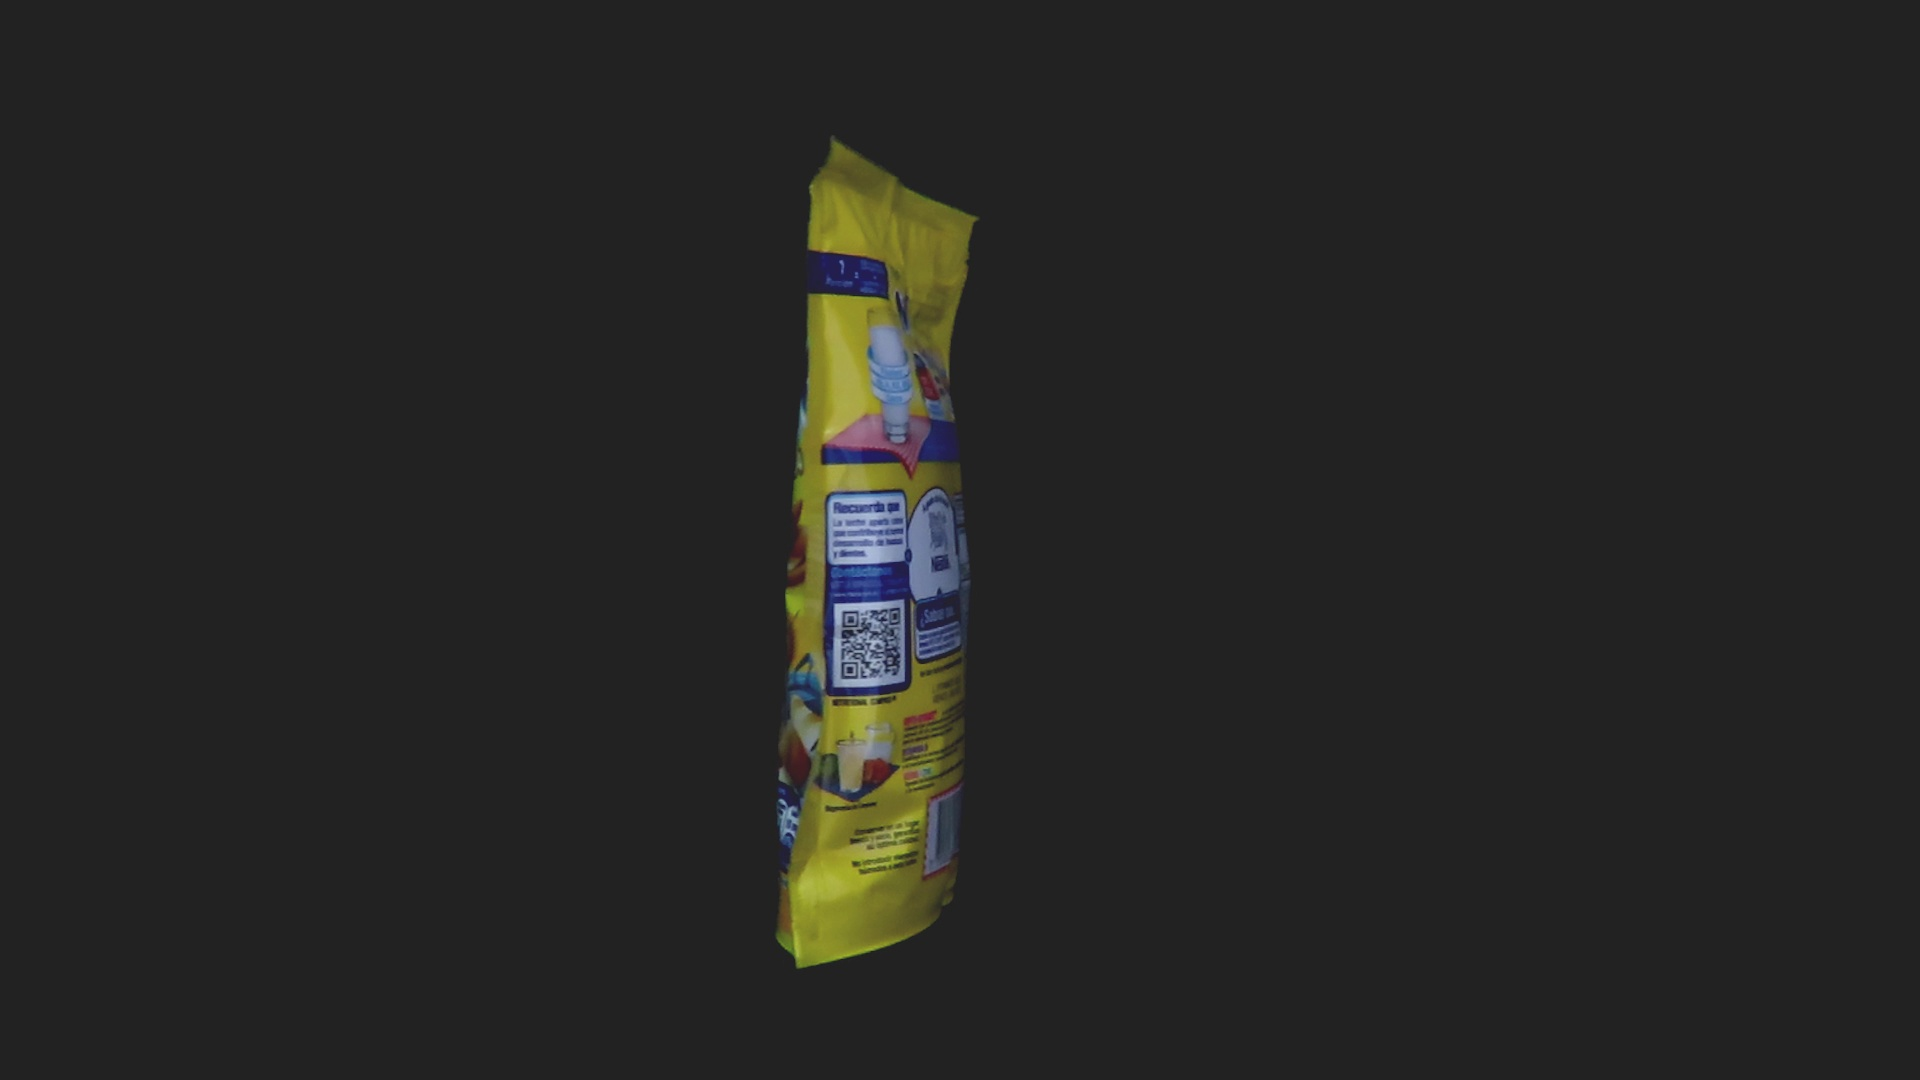COL0170306DYP20000: (779, 131, 985, 819)
